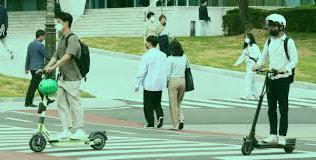helmet: (238, 12, 299, 157)
nonhelmet: (28, 9, 109, 152)
